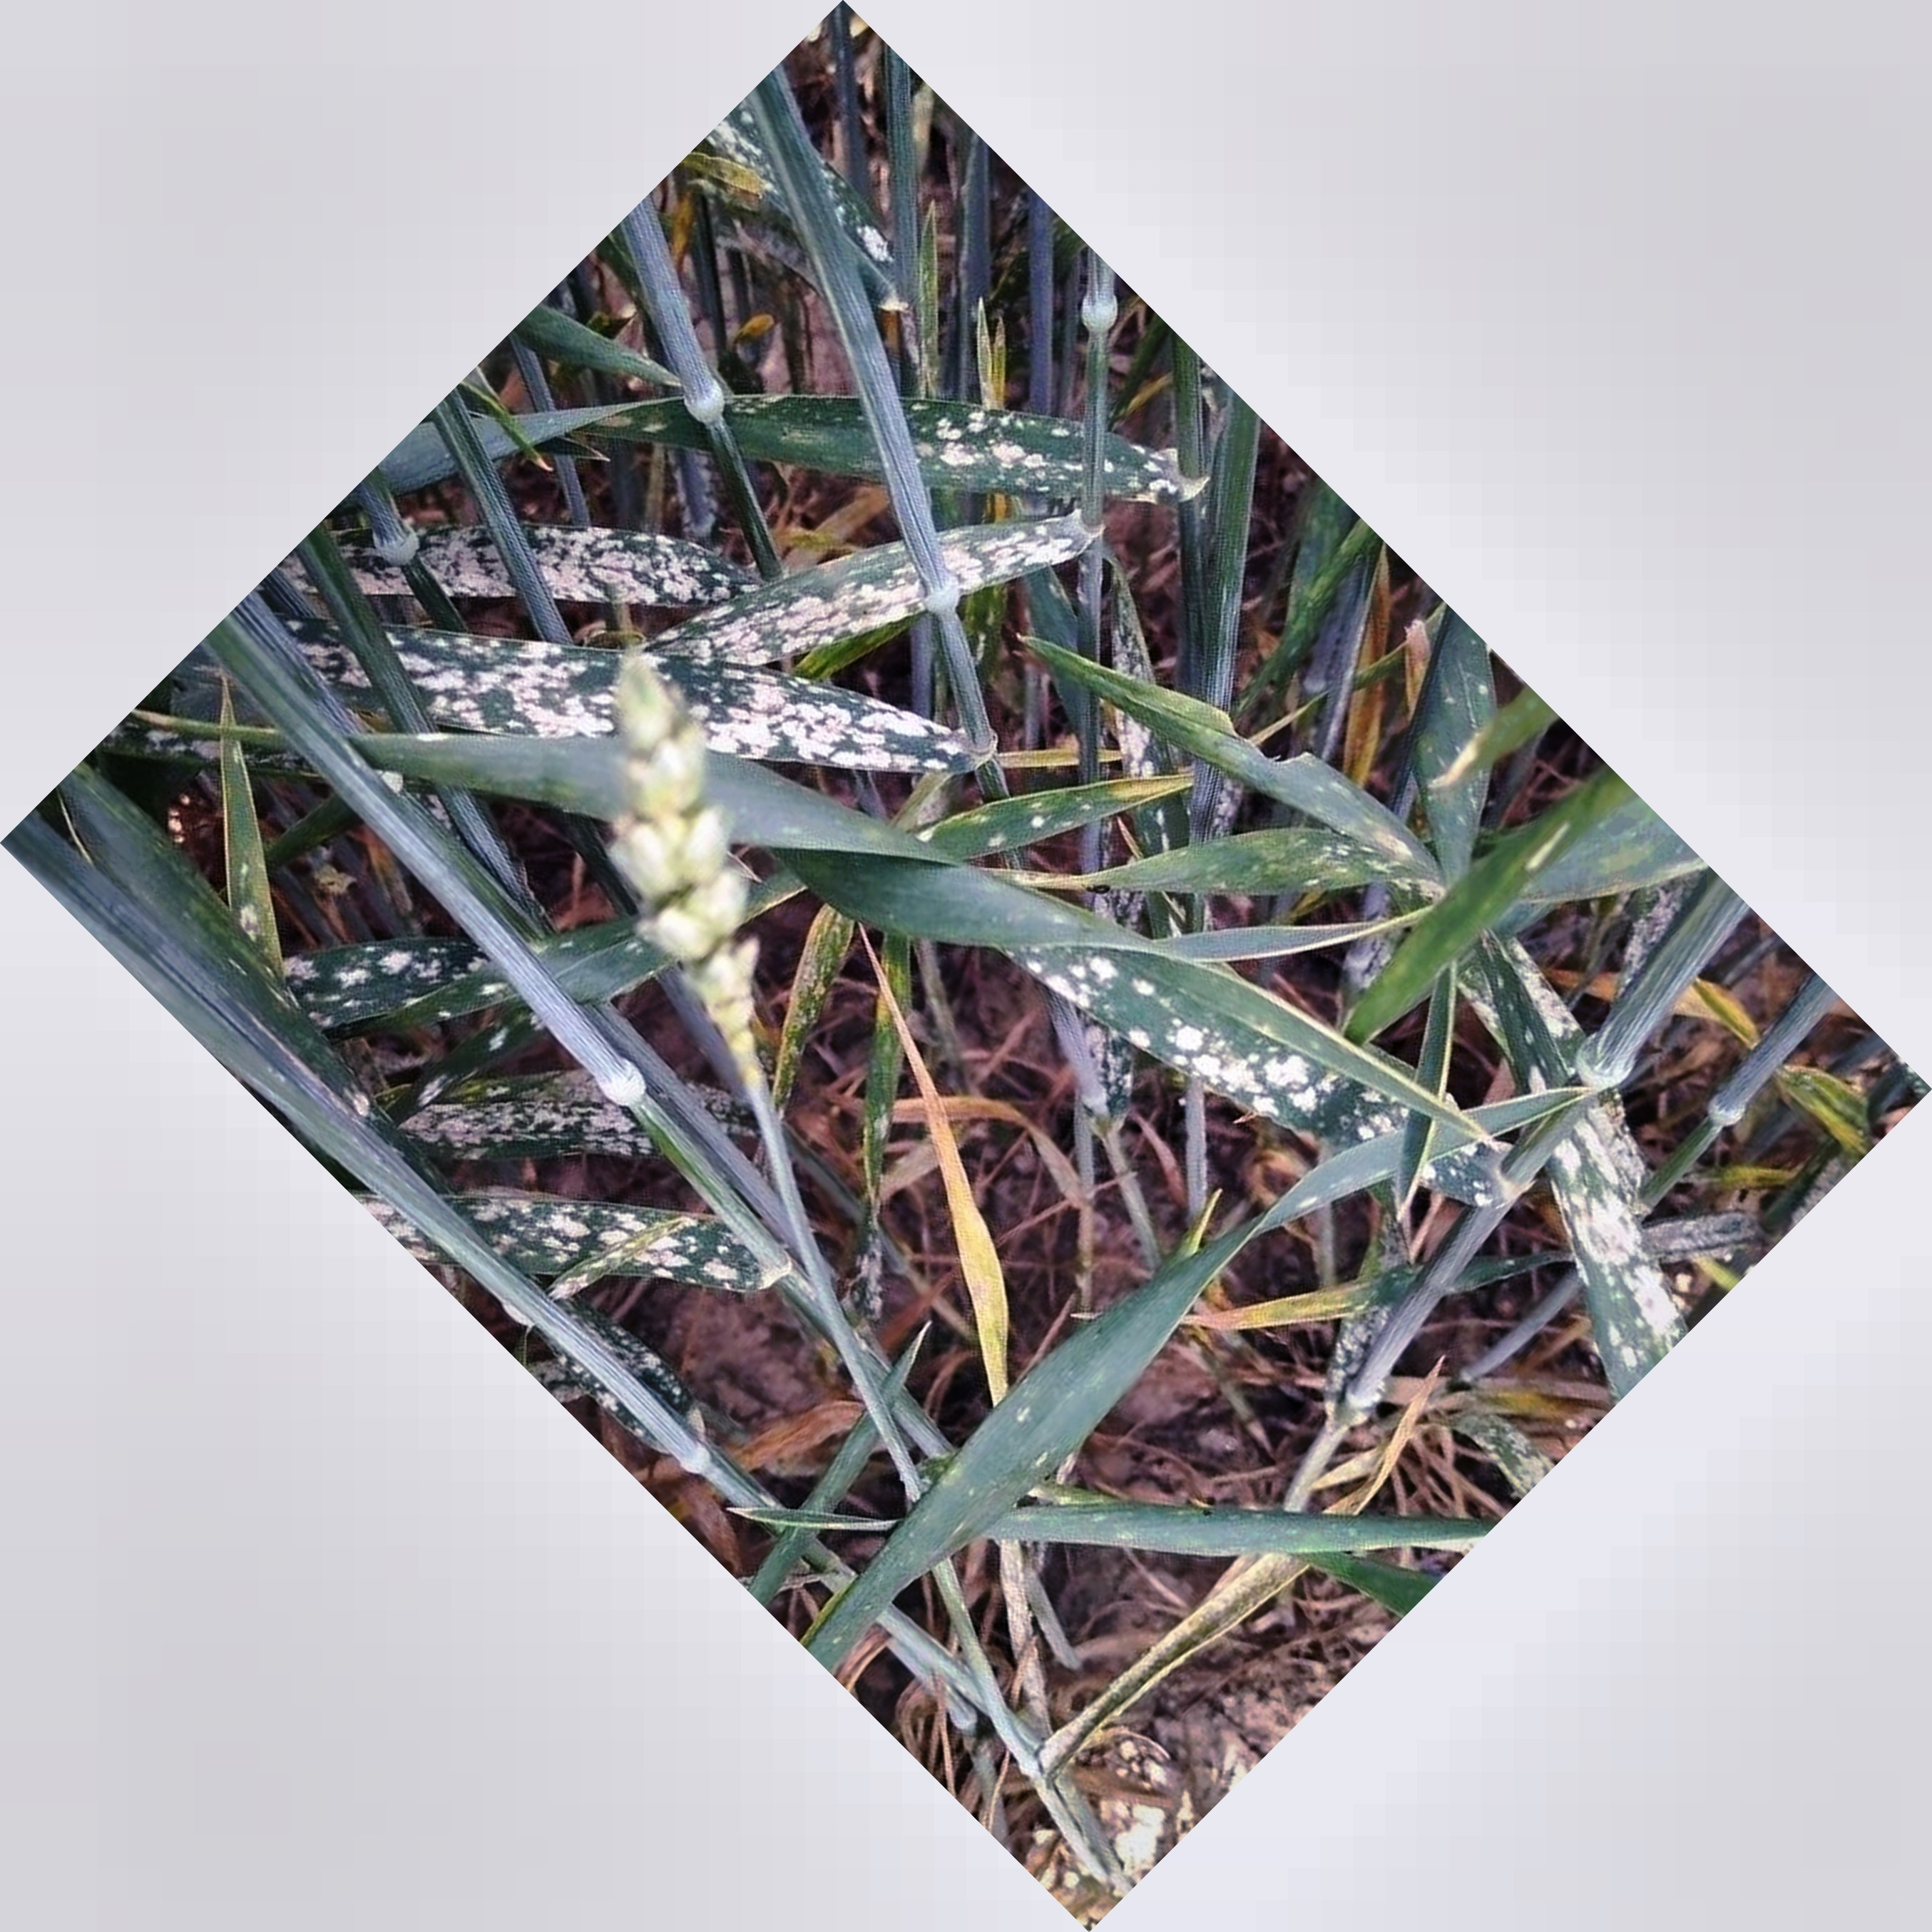Powdery Mildew: (439, 504, 964, 775)
